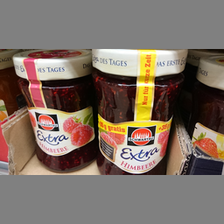jam: (92, 49, 189, 175), (11, 50, 96, 171)
